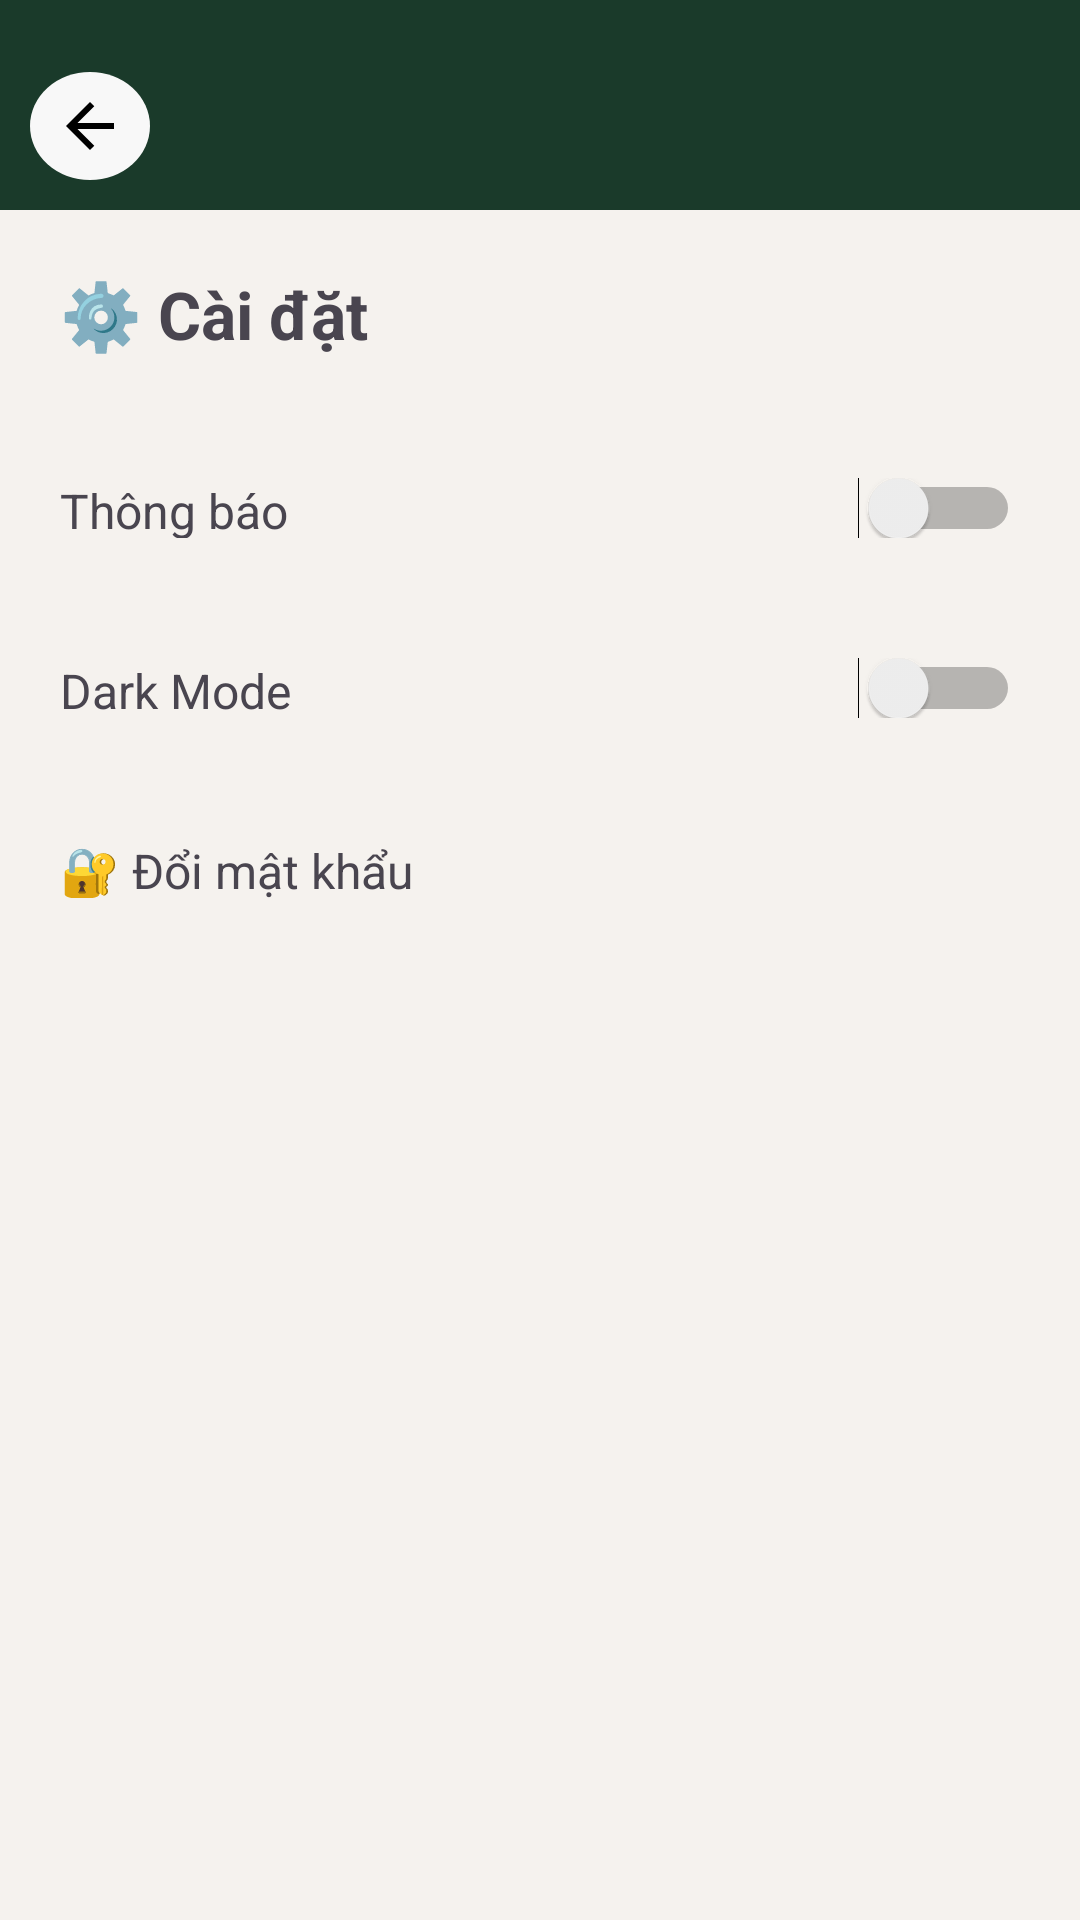

Icons on this 1080x1920 Android screen, each with the point to tap as point (x, y):
arrow back: point (90, 126)
